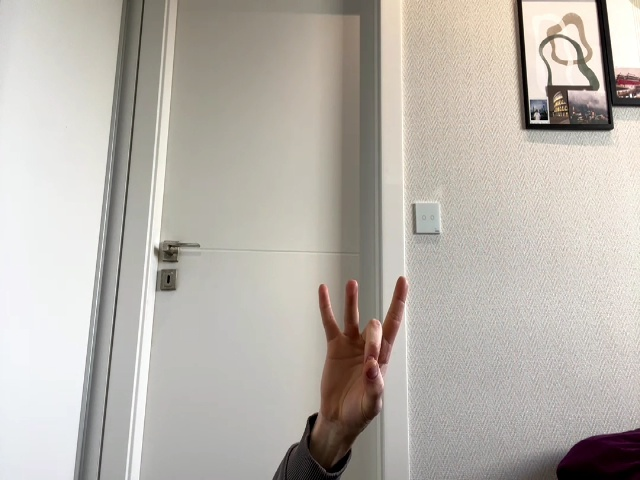G: (319, 277, 408, 425)
